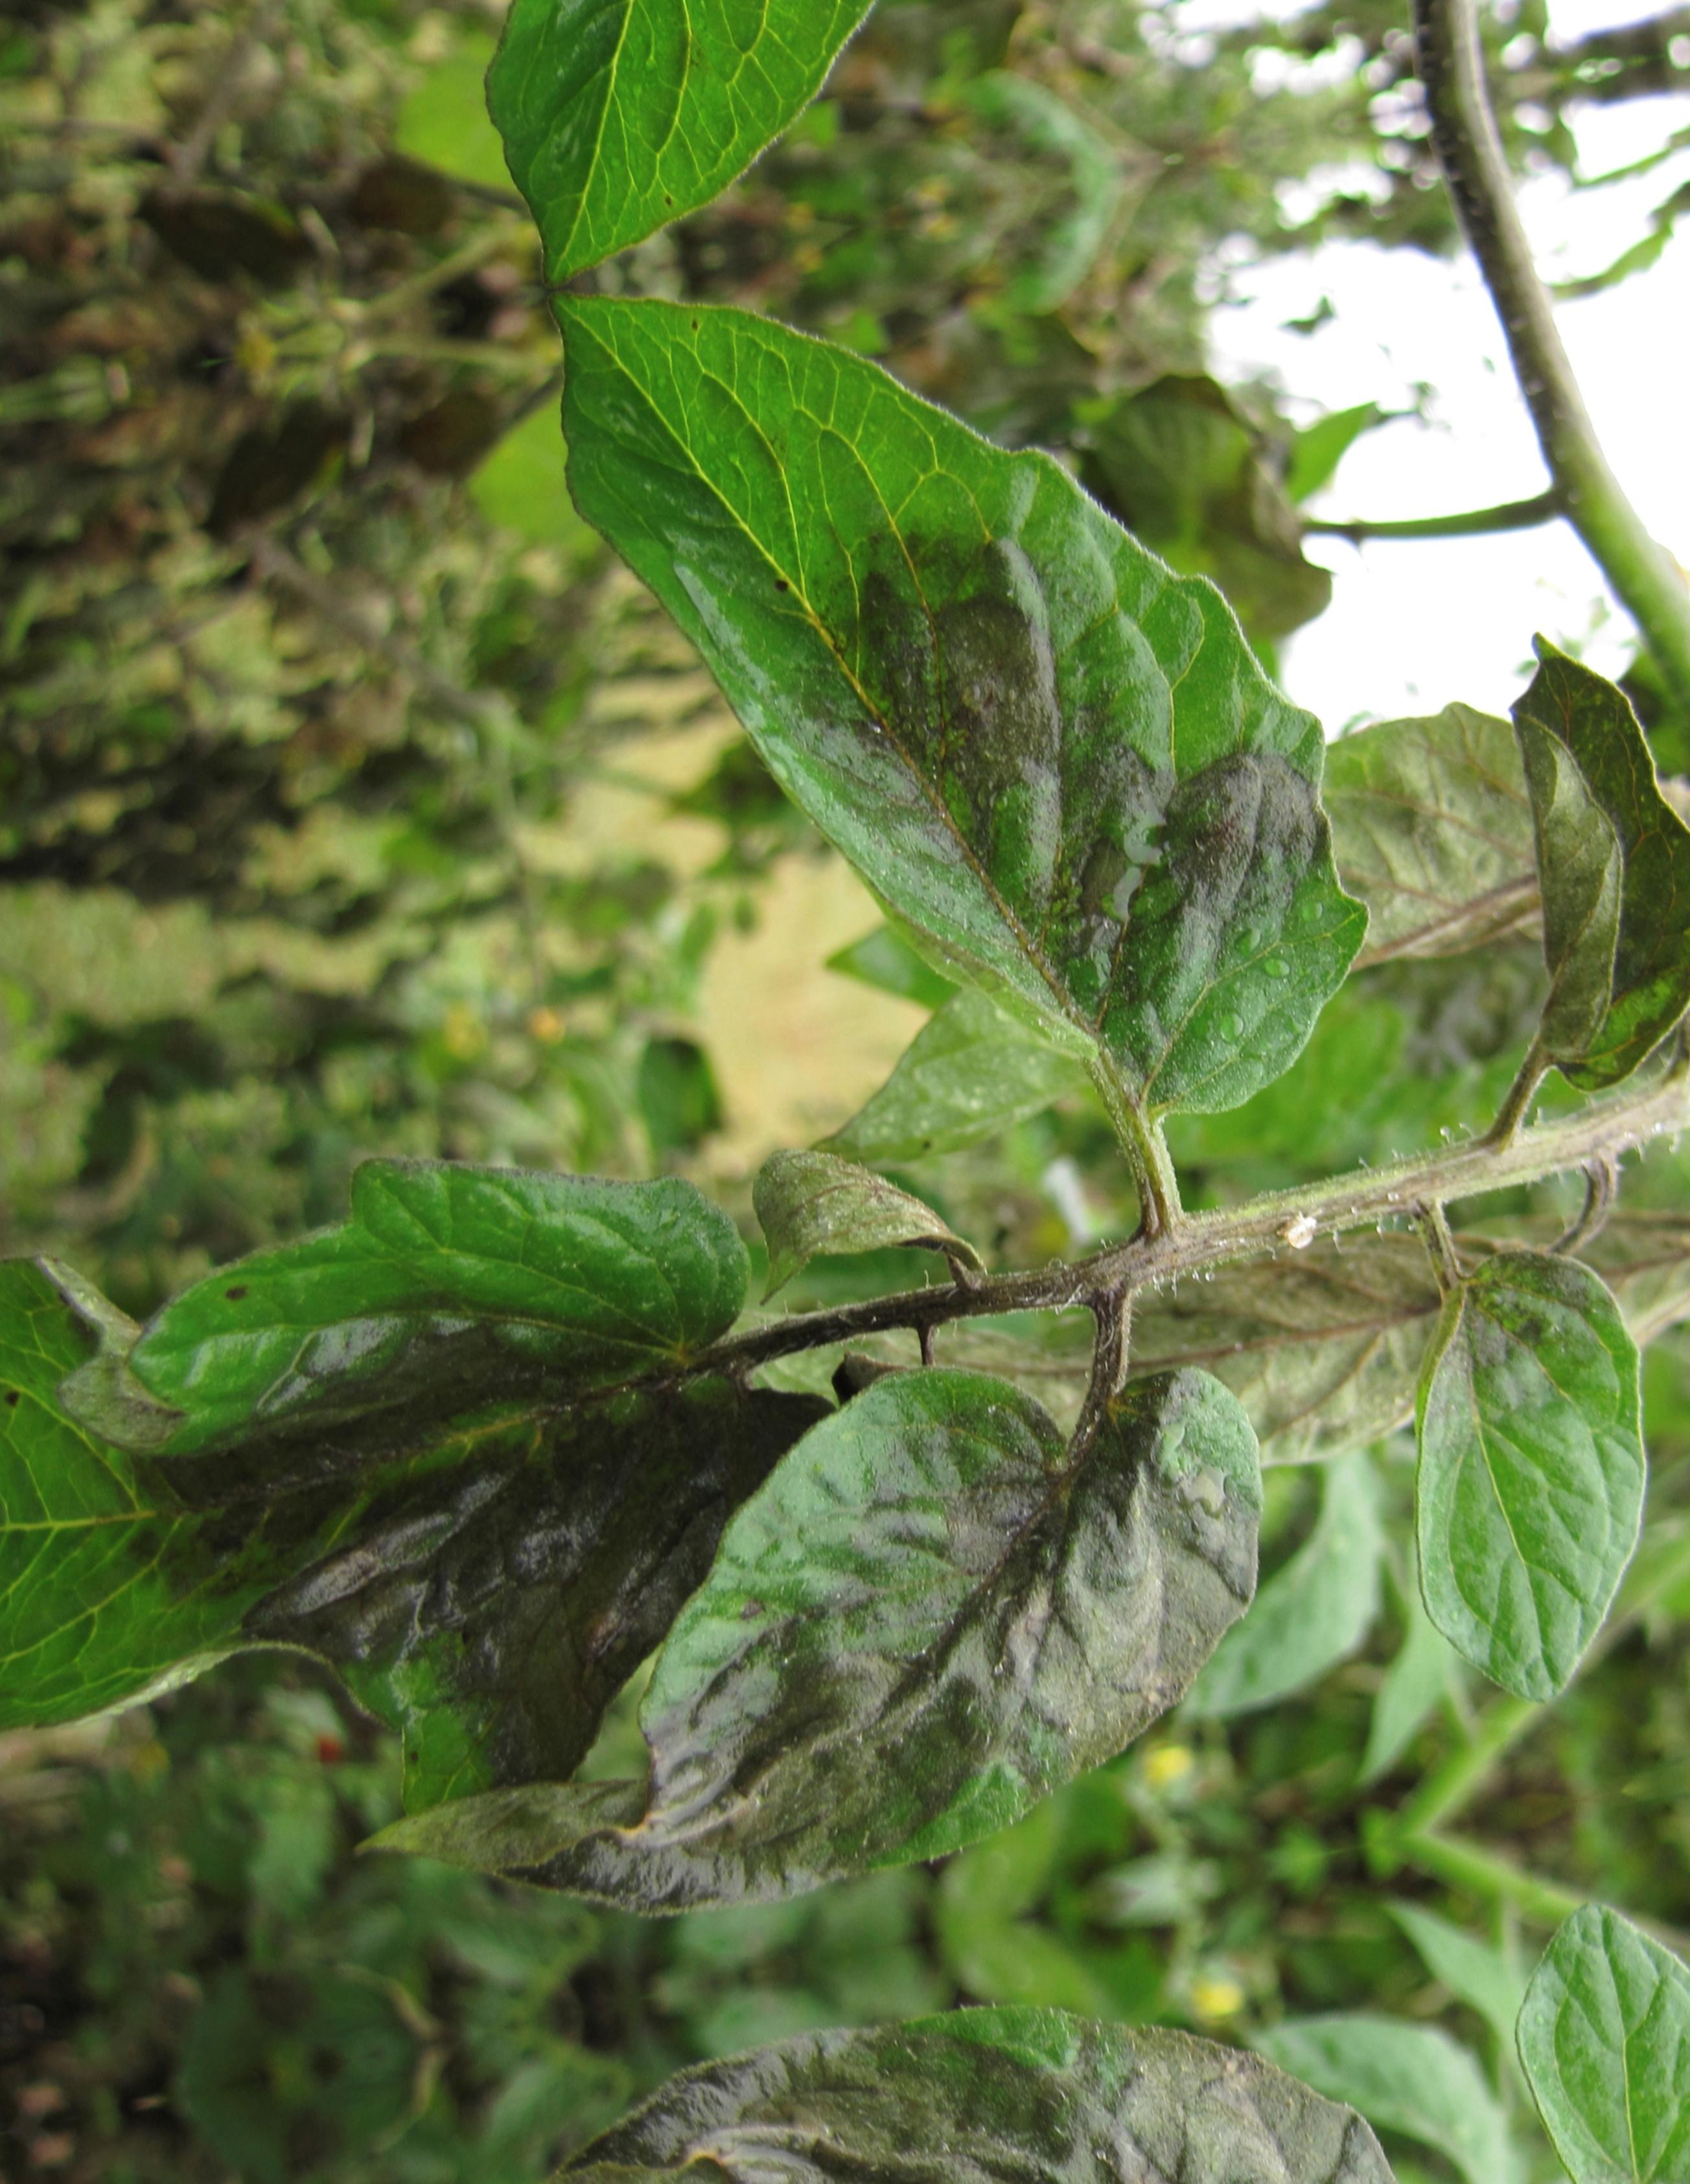Tomato leaf late blight: (516, 149, 1417, 1225), (328, 1282, 1334, 2033), (0, 1049, 874, 1893)
